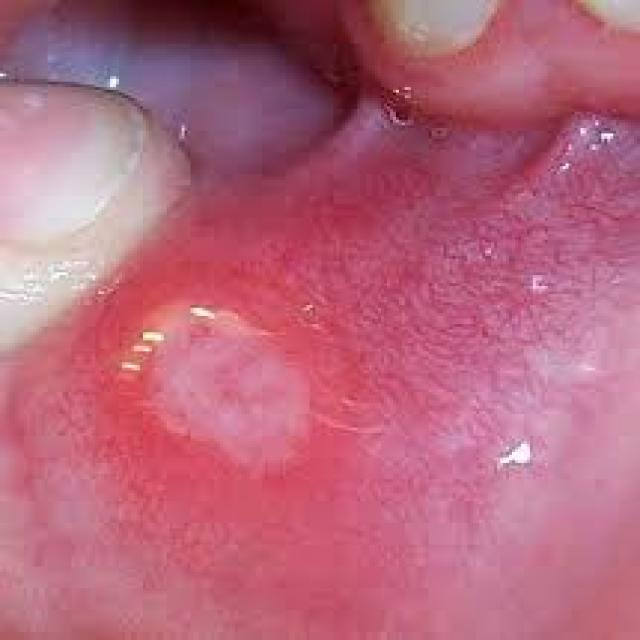processing_area: (0, 3, 637, 637)
ulcer-detection: (96, 272, 387, 503)
